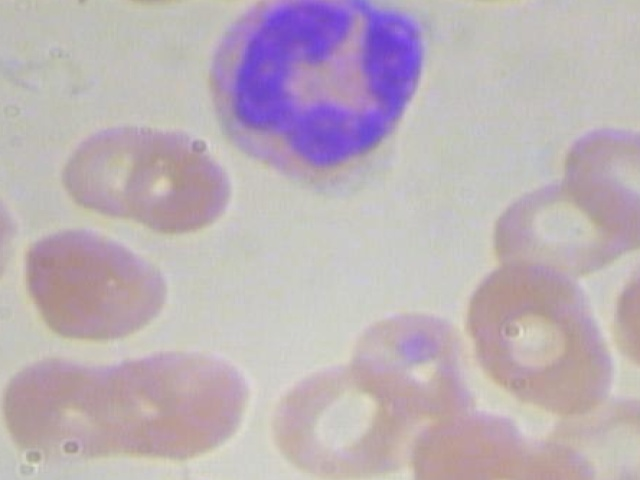RBC: (455, 258, 629, 419), (484, 155, 640, 292), (264, 349, 423, 480), (14, 218, 179, 343), (92, 342, 253, 463), (337, 310, 495, 423), (0, 346, 146, 466), (56, 116, 211, 215), (111, 133, 237, 238), (555, 117, 640, 254), (607, 252, 640, 389)
WBC: (173, 0, 470, 207)
